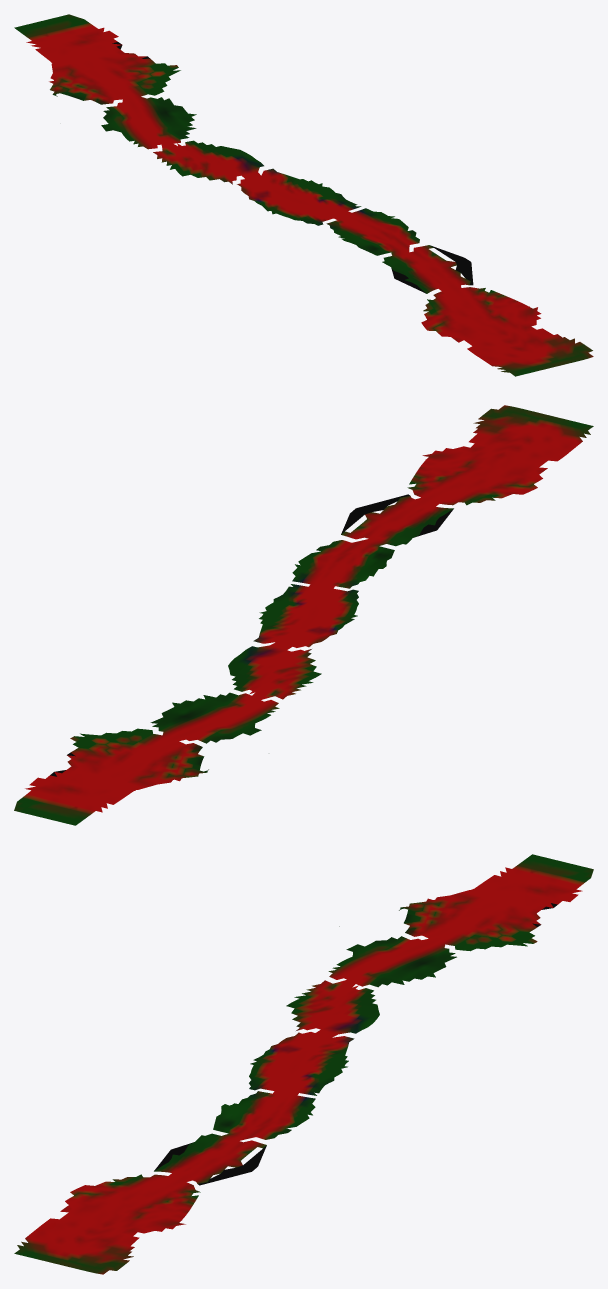
File: nav_mid.fbx
3 views of the same model, one above another, from view 1: azimuth 30°, elevation 25°; view 2: azimuth 150°, elevation 25°; view 3: azimuth 330°, elevation 25° (orthographic). The views are drawn at different scales.
Visible parts, largest first — view 1: Group5; view 2: Group5; view 3: Group5.
Part boxes in pixels (x1=…): Group5: x1=14, y1=14, x2=593, y2=376; Group5: x1=14, y1=405, x2=593, y2=825; Group5: x1=14, y1=854, x2=593, y2=1274.
Size of the model in its own units: 76.48 by 1.82 by 375.
